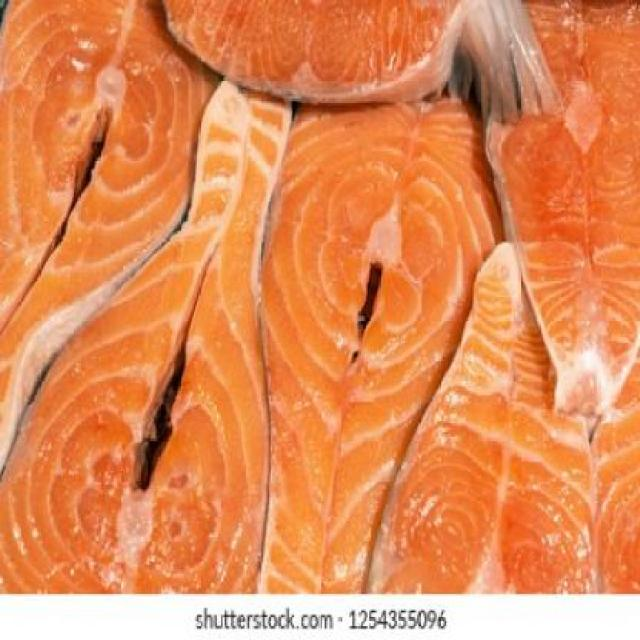salmon: (5, 77, 287, 596), (269, 103, 499, 597), (2, 3, 226, 453), (375, 231, 604, 594), (474, 10, 639, 418), (160, 1, 475, 107), (572, 322, 640, 592)
